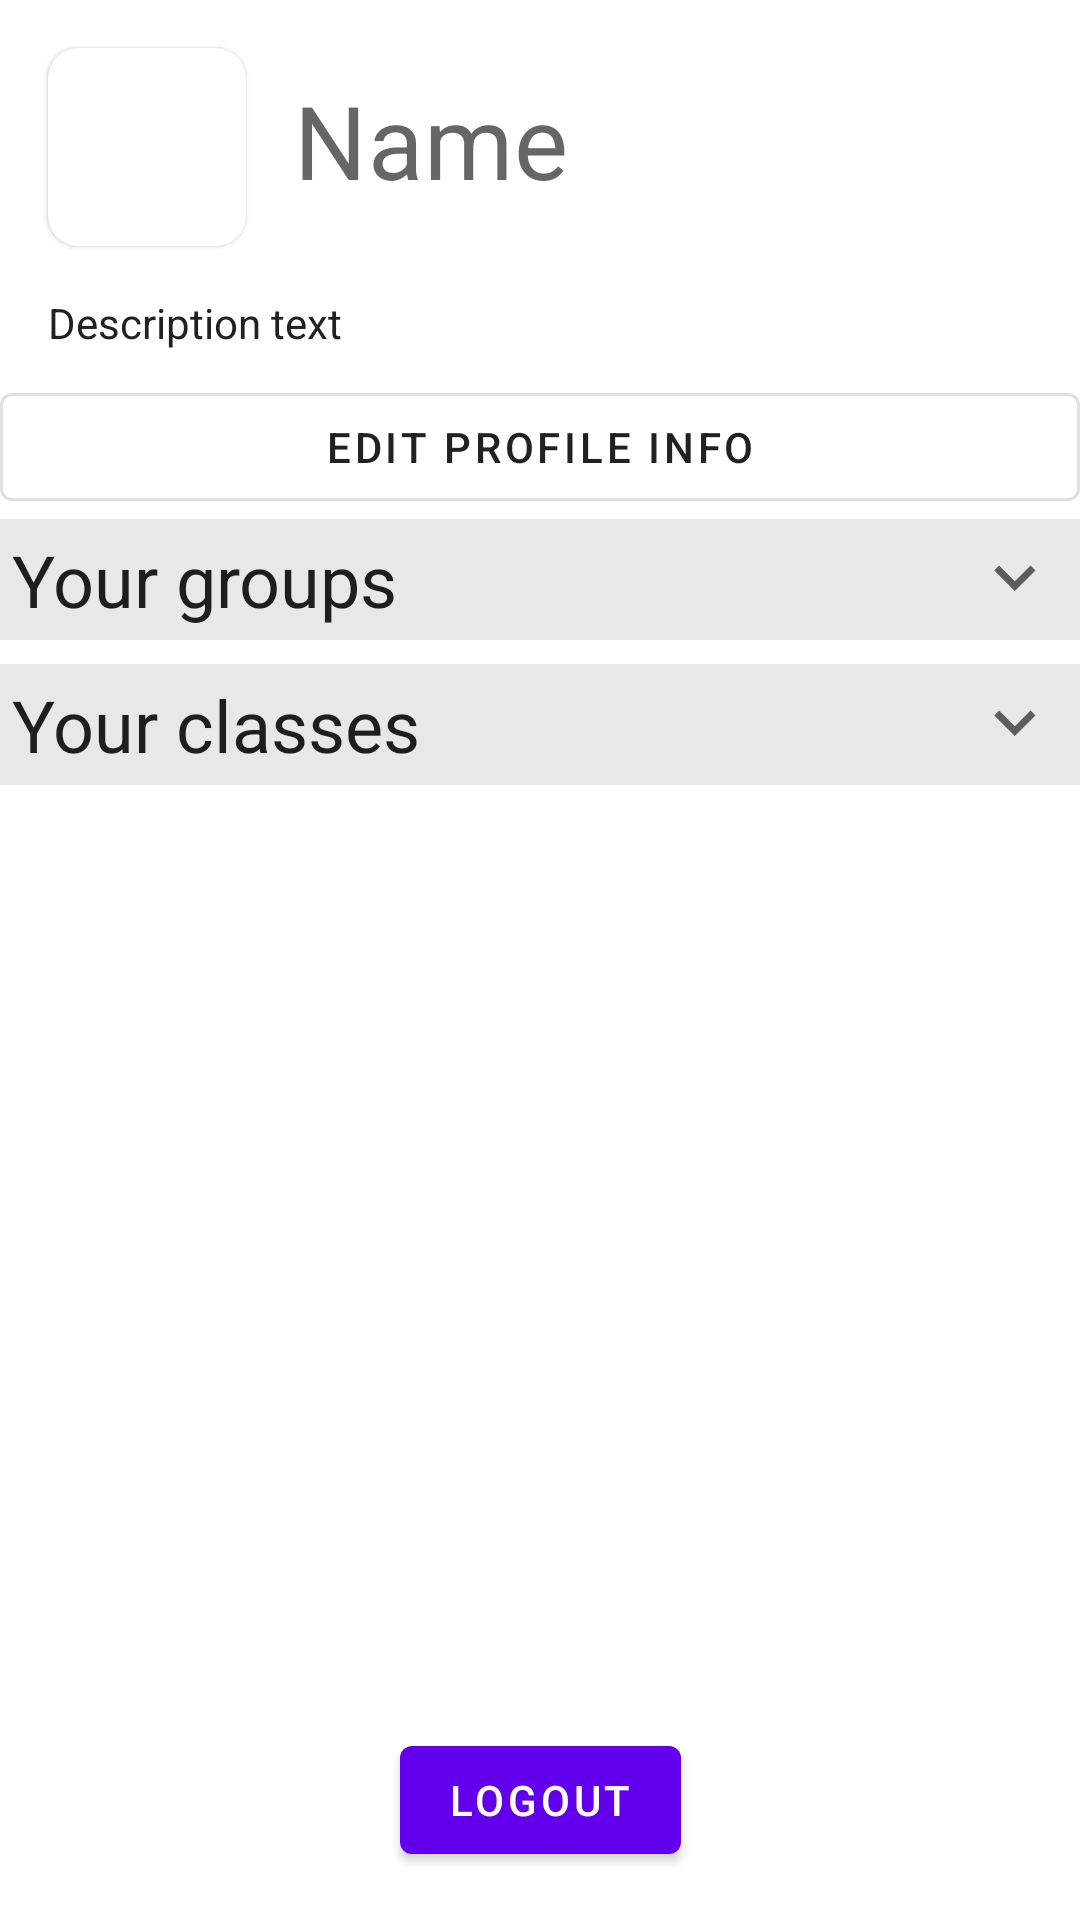

Icon bounding boxes for this 1080 × 1920 phone screenshot, format (x1, y1, x2, y2):
draw down: (994, 565, 1035, 591), (994, 710, 1035, 736)
